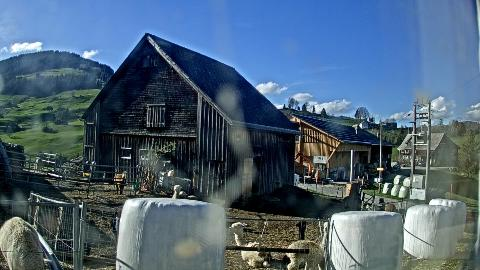car: (390, 166, 402, 172), (418, 162, 426, 166)
sheep: (0, 216, 44, 270), (228, 222, 272, 268), (286, 238, 326, 270), (282, 220, 308, 266), (344, 196, 368, 210), (114, 171, 128, 195), (379, 198, 395, 213), (322, 222, 330, 252), (178, 192, 198, 201), (172, 185, 182, 199), (36, 158, 44, 172)
